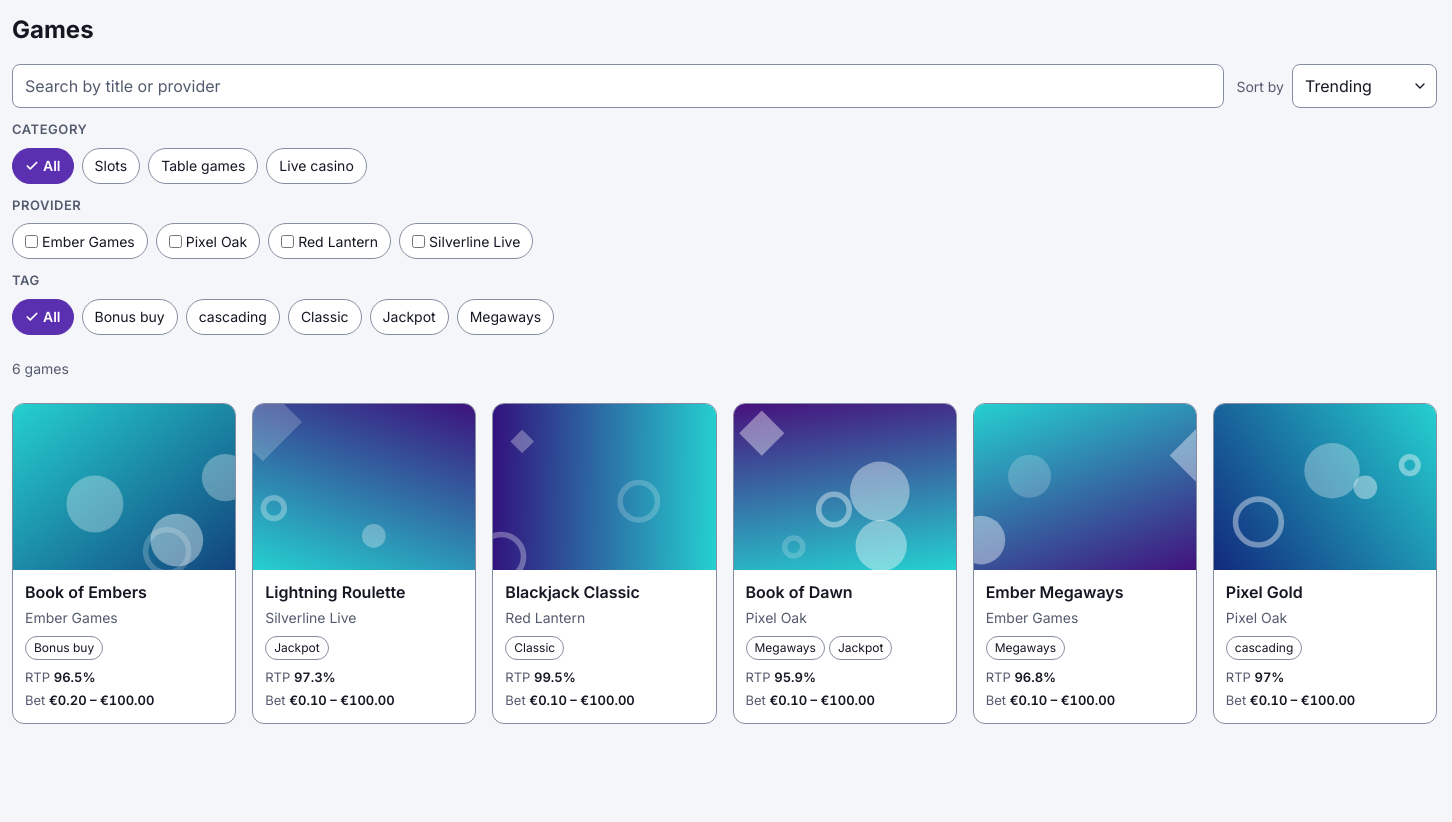
Test case: Catalog › hides Clear filters for the defaults and shows it for a non-default sort
Expected: the button "Clear filters" is not shown
Select "Highest RTP" in the dropdown labelled "Sort by" at (1364, 86), box x1=1292 y1=64 x2=1437 y2=108
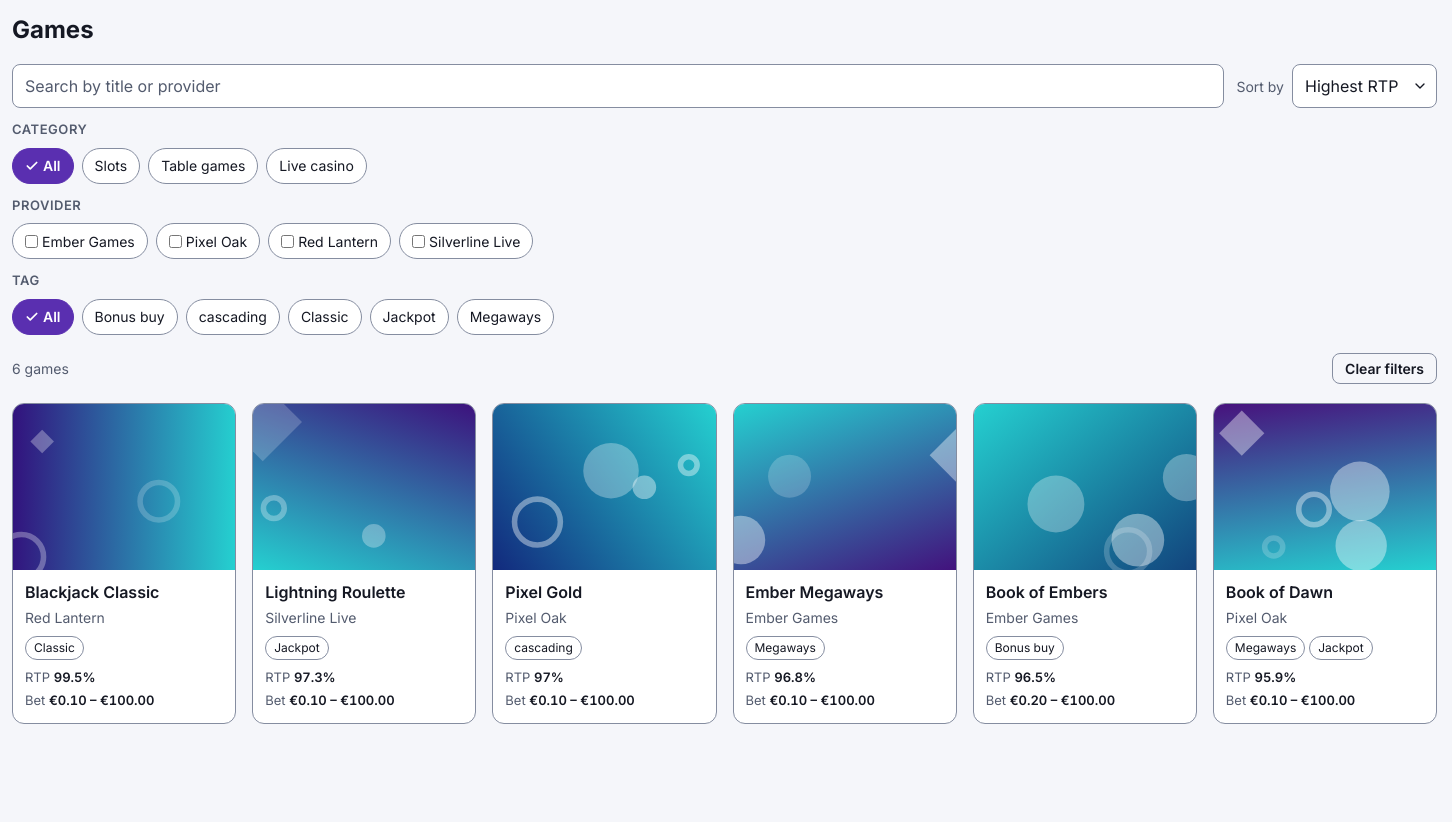
Result: the button "Clear filters" is shown at x1=1332 y1=353 x2=1437 y2=384
